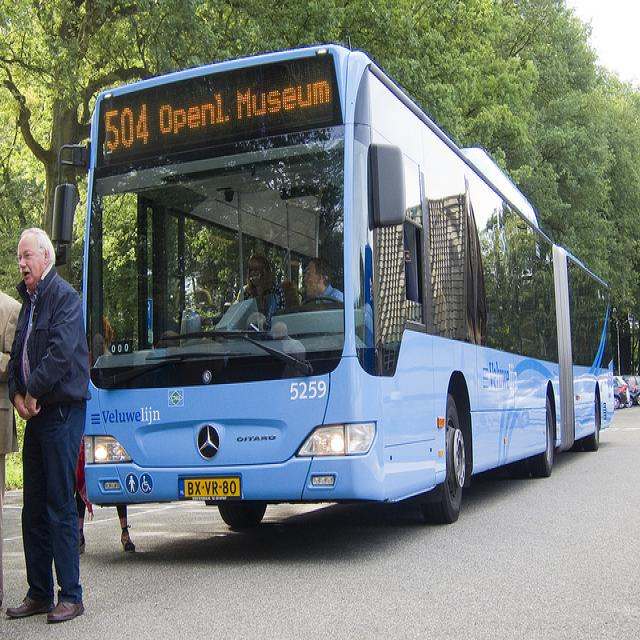Vehicle: (83, 36, 615, 532), (623, 374, 640, 408), (614, 376, 630, 408)
